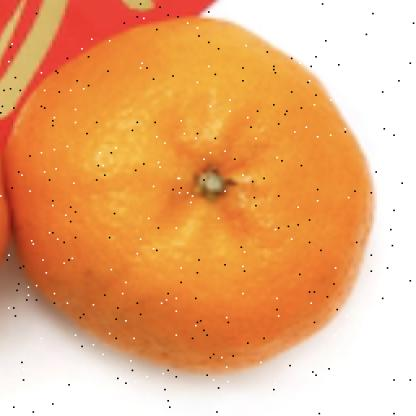fresh: (7, 16, 374, 373)
